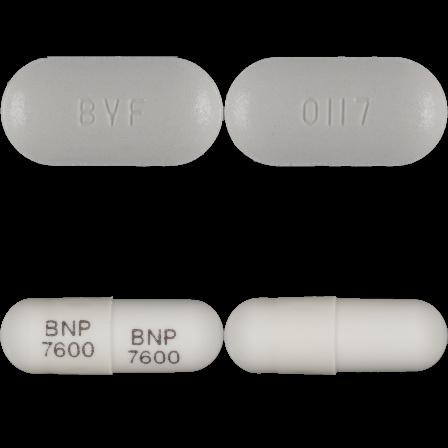54868-4515: (0, 0, 224, 224)
